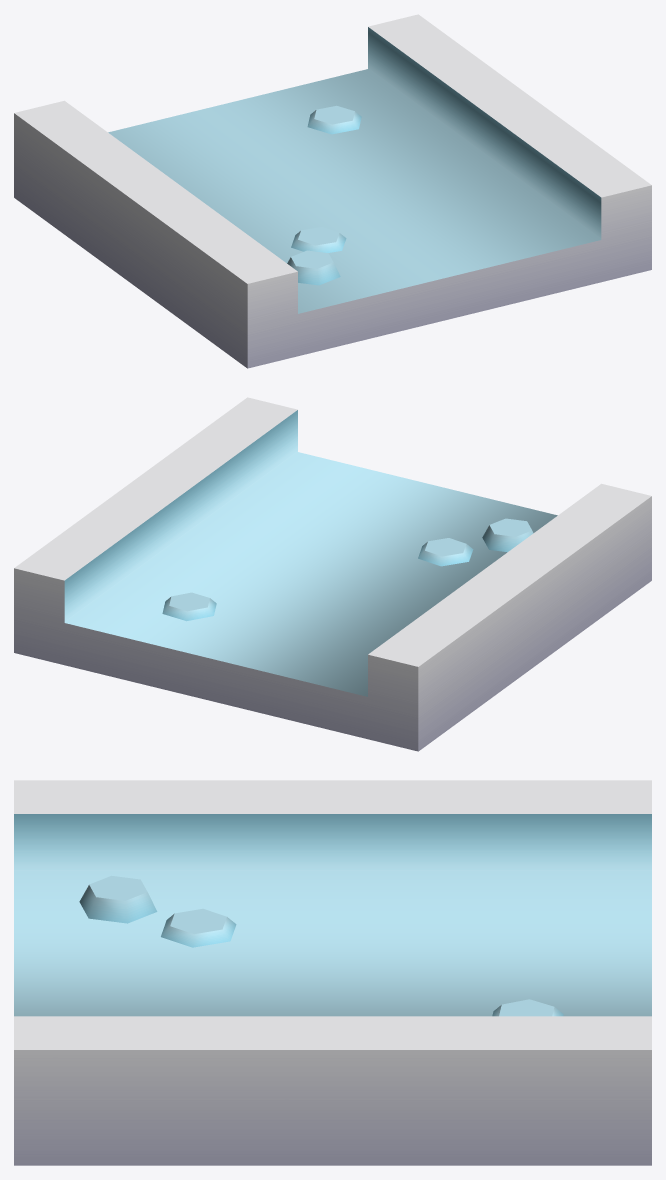
File: snow-tile-straight.fbx
The picture shows the model from 3 angles, top to bottom: view 1: azimuth 30°, elevation 25°; view 2: azimuth 150°, elevation 25°; view 3: azimuth 270°, elevation 25°; orthographic projection. The views are drawn at different scales.
Visible parts, largest first — view 1: snow-tile-straight; view 2: snow-tile-straight; view 3: snow-tile-straight.
Part boxes in pixels (x1,y1,x2,y2): snow-tile-straight: (14,14,651,368); snow-tile-straight: (14,397,651,751); snow-tile-straight: (14,780,651,1165).
Bounding box in the file's own units: 100 × 20 × 100.
